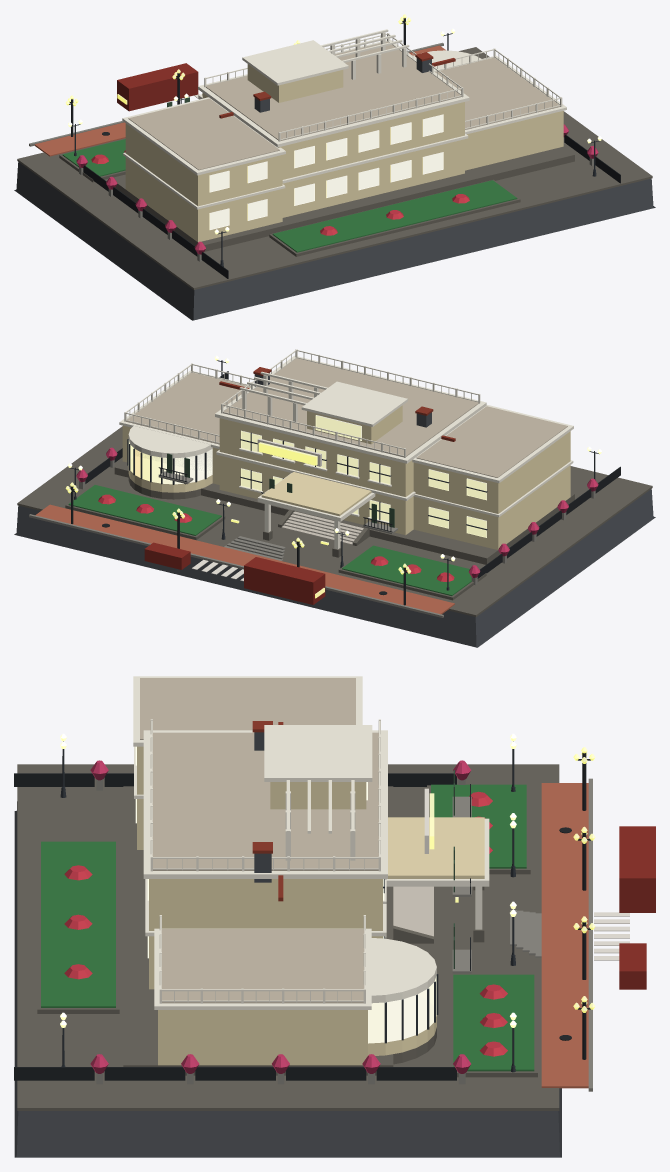
The model's file is lm_07_dinh_3.glb.
3 renders of one model, top to bottom at view 1: azimuth 30°, elevation 25°; view 2: azimuth 150°, elevation 25°; view 3: azimuth 270°, elevation 25°, orthographic. The views are drawn at different scales.
Visible parts, largest first — view 1: Dinh3_ArtDeco_Walls, Foundation_Skirt, Dinh3_Flat_Terrace_Slabs, Foundation_Plinth_Trim, Dinh3_Horizontal_Coping_Bands, Dinh3_Stone_Plinth, Dinh3_ThuongUyen_Parterres, Dinh3_Royal_Windows_Glow, Phase2_Vintage_Vehicles_Train_SwanBoat, Phase2_WroughtIron_Balconies_Railings_Manholes, Dinh3_Upper_MoonDeck_Balustrade, Phase2_Interlocking_Brick_Sidewalk (+4 smaller); view 2: Dinh3_ArtDeco_Walls, Dinh3_Flat_Terrace_Slabs, Foundation_Plinth_Trim, Foundation_Skirt, Dinh3_Horizontal_Coping_Bands, Dinh3_ThuongUyen_Parterres, Dinh3_Royal_Windows_Glow, Dinh3_Stone_Plinth, Phase2_Interlocking_Brick_Sidewalk, Phase2_Vintage_Vehicles_Train_SwanBoat, Phase2_Granite_Curb_And_Entry_Steps, Phase2_WroughtIron_Balconies_Railings_Manholes (+10 smaller); view 3: Foundation_Plinth_Trim, Dinh3_Flat_Terrace_Slabs, Dinh3_ArtDeco_Walls, Foundation_Skirt, Dinh3_ThuongUyen_Parterres, Dinh3_Horizontal_Coping_Bands, Phase2_Interlocking_Brick_Sidewalk, Dinh3_Stone_Plinth, Phase2_WroughtIron_Balconies_Railings_Manholes, Phase2_Vintage_Vehicles_Train_SwanBoat, Phase2_Granite_Curb_And_Entry_Steps, Dinh3_Royal_Windows_Glow (+9 smaller).
Boxes of the visible parts, <box> form: Dinh3_ArtDeco_Walls: <box>125,64,563,242</box>; Foundation_Skirt: <box>14,162,655,320</box>; Dinh3_Flat_Terrace_Slabs: <box>128,42,560,170</box>; Foundation_Plinth_Trim: <box>17,47,652,289</box>; Dinh3_Horizontal_Coping_Bands: <box>122,29,566,209</box>; Dinh3_Stone_Plinth: <box>59,139,574,256</box>; Dinh3_ThuongUyen_Parterres: <box>62,139,517,252</box>; Dinh3_Royal_Windows_Glow: <box>209,114,443,229</box>; Phase2_Vintage_Vehicles_Train_SwanBoat: <box>117,63,198,111</box>; Phase2_WroughtIron_Balconies_Railings_Manholes: <box>69,18,620,278</box>; Dinh3_Upper_MoonDeck_Balustrade: <box>204,33,463,141</box>; Phase2_Interlocking_Brick_Sidewalk: <box>34,45,445,156</box>; Dinh3_ArtDeco_Walls: <box>122,405,570,549</box>; Dinh3_Flat_Terrace_Slabs: <box>126,358,567,477</box>; Foundation_Plinth_Trim: <box>17,426,652,616</box>; Foundation_Skirt: <box>14,489,655,647</box>; Dinh3_Horizontal_Coping_Bands: <box>119,355,573,549</box>; Dinh3_ThuongUyen_Parterres: <box>68,485,471,595</box>; Dinh3_Royal_Windows_Glow: <box>128,415,486,537</box>; Dinh3_Stone_Plinth: <box>65,461,574,600</box>; Phase2_Interlocking_Brick_Sidewalk: <box>35,504,454,614</box>; Phase2_Vintage_Vehicles_Train_SwanBoat: <box>144,542,325,604</box>; Phase2_Granite_Curb_And_Entry_Steps: <box>29,459,595,617</box>; Phase2_WroughtIron_Balconies_Railings_Manholes: <box>71,371,620,605</box>; Foundation_Plinth_Trim: <box>17,764,559,1110</box>; Dinh3_Flat_Terrace_Slabs: <box>140,678,378,1003</box>; Dinh3_ArtDeco_Walls: <box>137,746,484,1065</box>; Foundation_Skirt: <box>14,801,561,1157</box>; Dinh3_ThuongUyen_Parterres: <box>41,784,534,1071</box>; Dinh3_Horizontal_Coping_Bands: <box>133,676,489,1009</box>; Phase2_Interlocking_Brick_Sidewalk: <box>541,783,588,1088</box>; Dinh3_Stone_Plinth: <box>37,784,537,1077</box>; Phase2_WroughtIron_Balconies_Railings_Manholes: <box>14,753,591,1080</box>; Phase2_Vintage_Vehicles_Train_SwanBoat: <box>619,826,655,989</box>; Phase2_Granite_Curb_And_Entry_Steps: <box>96,778,592,1091</box>; Dinh3_Royal_Windows_Glow: <box>135,746,436,1043</box>.
Size of the model in its own units: 54.75 by 15.5 by 42.81.
